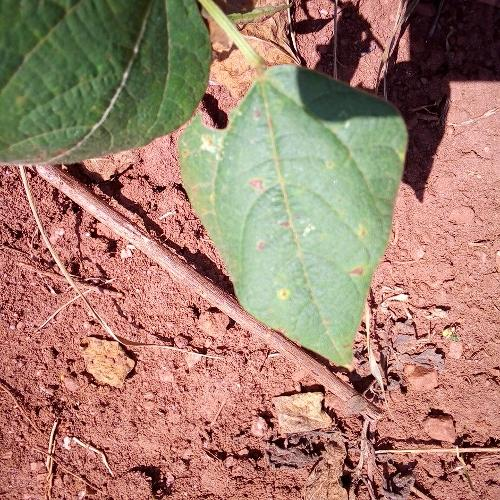hawar: (233, 159, 304, 258), (327, 179, 374, 284), (250, 272, 304, 310)
